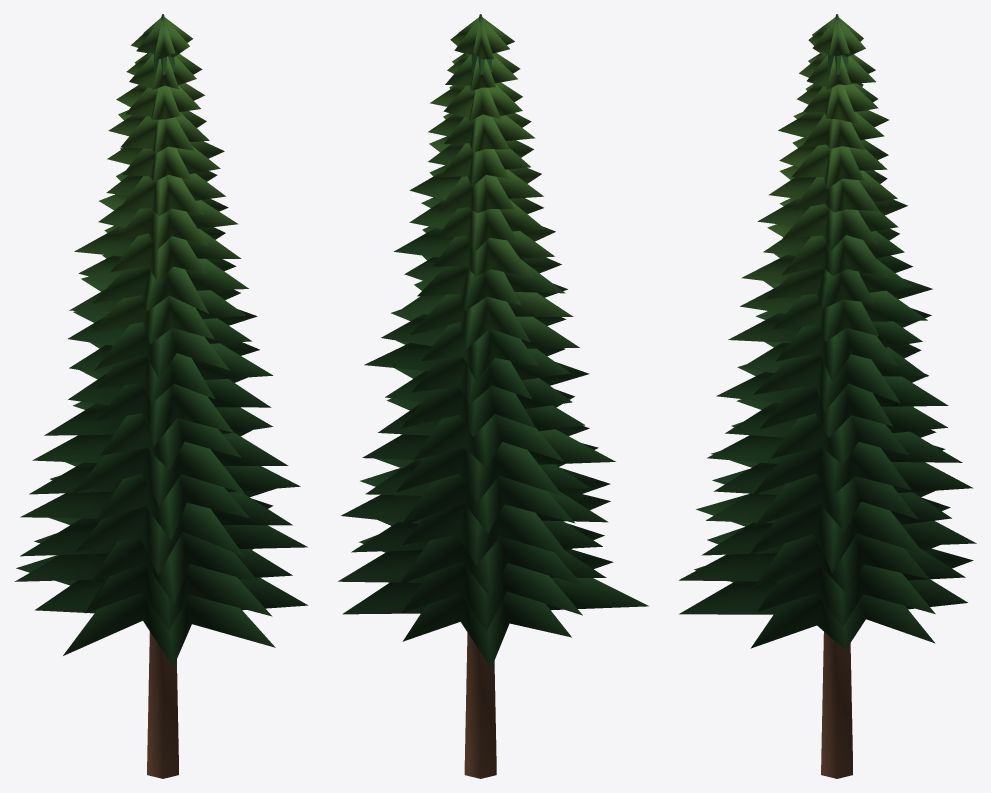
File: tree_cedar_lo.glb
The picture shows the model from 3 angles, left to right: view 1: azimuth 30°, elevation 25°; view 2: azimuth 150°, elevation 25°; view 3: azimuth 270°, elevation 25°; orthographic projection.
Visible parts, largest first — view 1: tree_cedar_lo; view 2: tree_cedar_lo; view 3: tree_cedar_lo.
Part boxes in pixels (x1=…): tree_cedar_lo: x1=14, y1=14, x2=308, y2=778; tree_cedar_lo: x1=338, y1=14, x2=648, y2=778; tree_cedar_lo: x1=679, y1=14, x2=976, y2=778.
Size of the model in its own units: 5.81 by 16.25 by 5.82.
